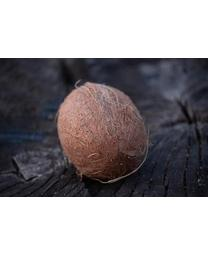coconut: (54, 80, 151, 185)
